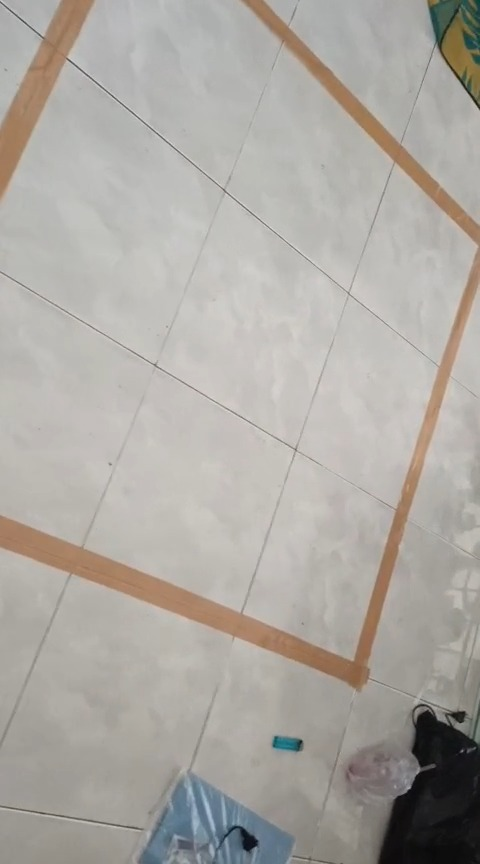floor marking: (0, 0, 479, 688), (0, 0, 92, 197)
